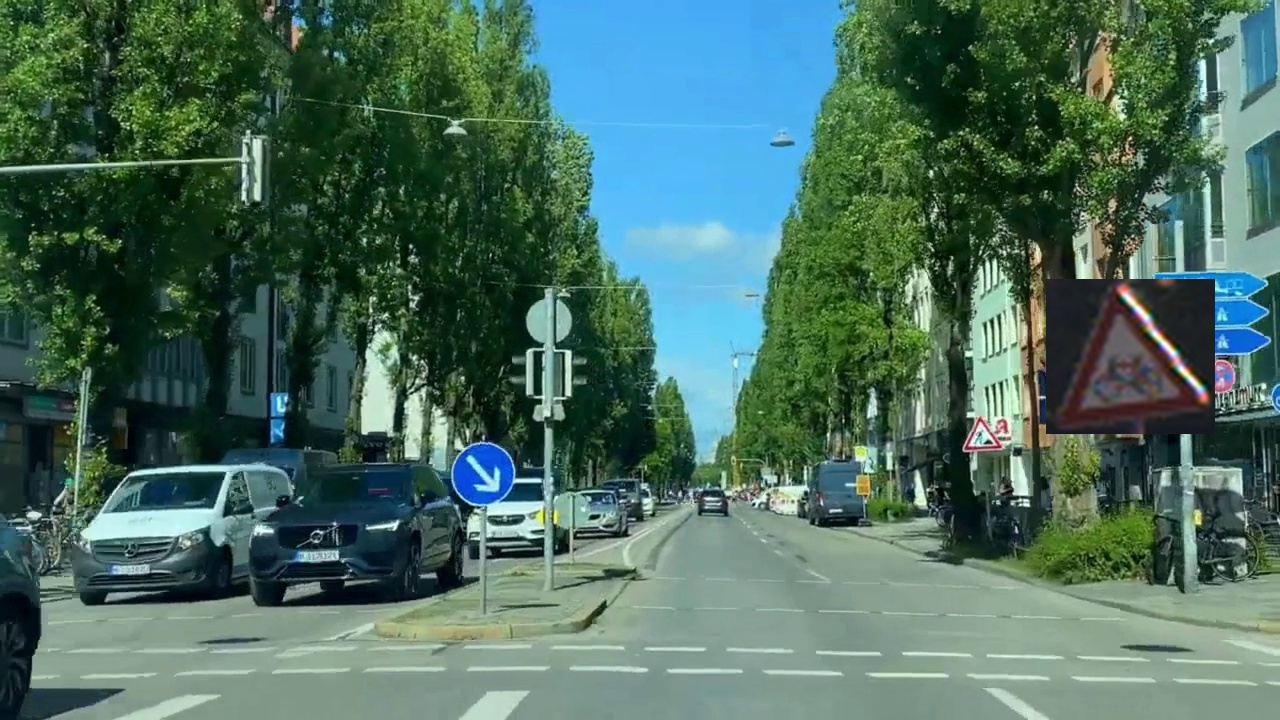Bicycles: (1046, 279, 1215, 434)
